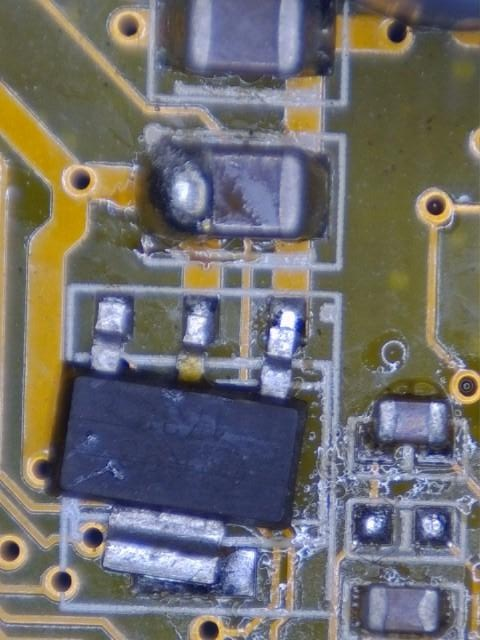pcb_defect: (54, 294, 308, 598)
